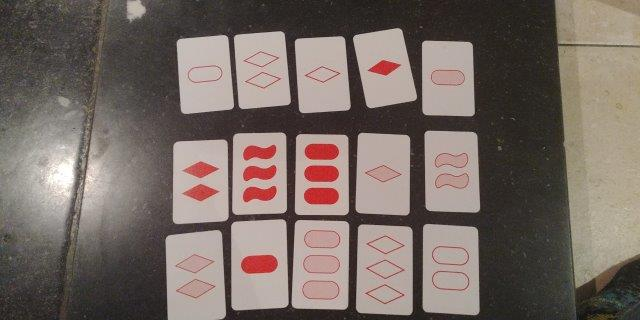1ED: (299, 42, 345, 109)
1EP: (182, 41, 228, 109)
1FD: (366, 35, 403, 102)
1FP: (234, 226, 286, 306)
1HD: (360, 136, 406, 212)
1HP: (424, 43, 470, 114)
2ED: (241, 36, 285, 104)
2EP: (426, 230, 476, 311)
2FD: (176, 146, 225, 219)
2HD: (169, 237, 221, 318)
2HW: (428, 133, 475, 210)
3ED: (360, 227, 410, 311)
3FP: (299, 137, 345, 214)
3FW: (236, 136, 284, 212)
3HP: (297, 223, 345, 308)
